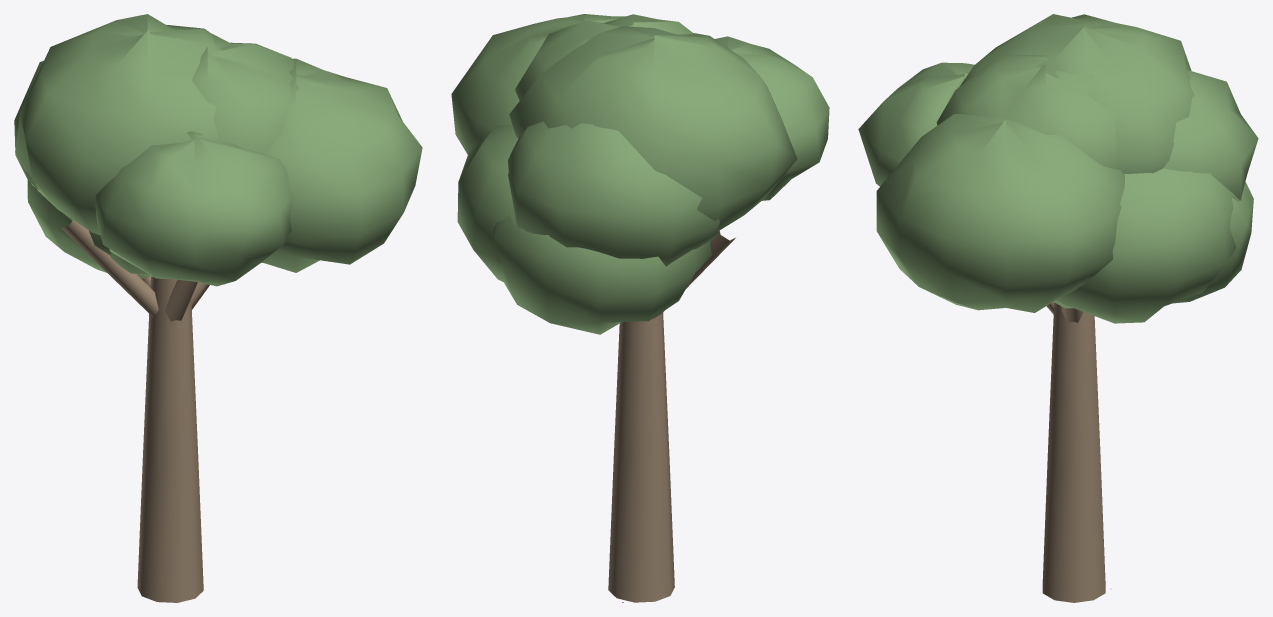
The model's file is Arvore_Frondosa2.glb.
The picture shows the model from 3 angles, left to right: view 1: azimuth 30°, elevation 25°; view 2: azimuth 150°, elevation 25°; view 3: azimuth 270°, elevation 25°; orthographic projection.
Parts seen in each view (by area): view 1: Copa@Grass@3A602C, Tronco@Wood@5C442E; view 2: Copa@Grass@3A602C, Tronco@Wood@5C442E; view 3: Copa@Grass@3A602C, Tronco@Wood@5C442E.
Part boxes in pixels (bbox=[...]): Copa@Grass@3A602C: bbox=[14, 14, 422, 286]; Tronco@Wood@5C442E: bbox=[62, 220, 209, 602]; Copa@Grass@3A602C: bbox=[451, 14, 829, 334]; Tronco@Wood@5C442E: bbox=[608, 230, 735, 602]; Copa@Grass@3A602C: bbox=[858, 14, 1258, 323]; Tronco@Wood@5C442E: bbox=[1042, 302, 1105, 602].
Size of the model in its own units: 10.8 by 16.7 by 10.87.
